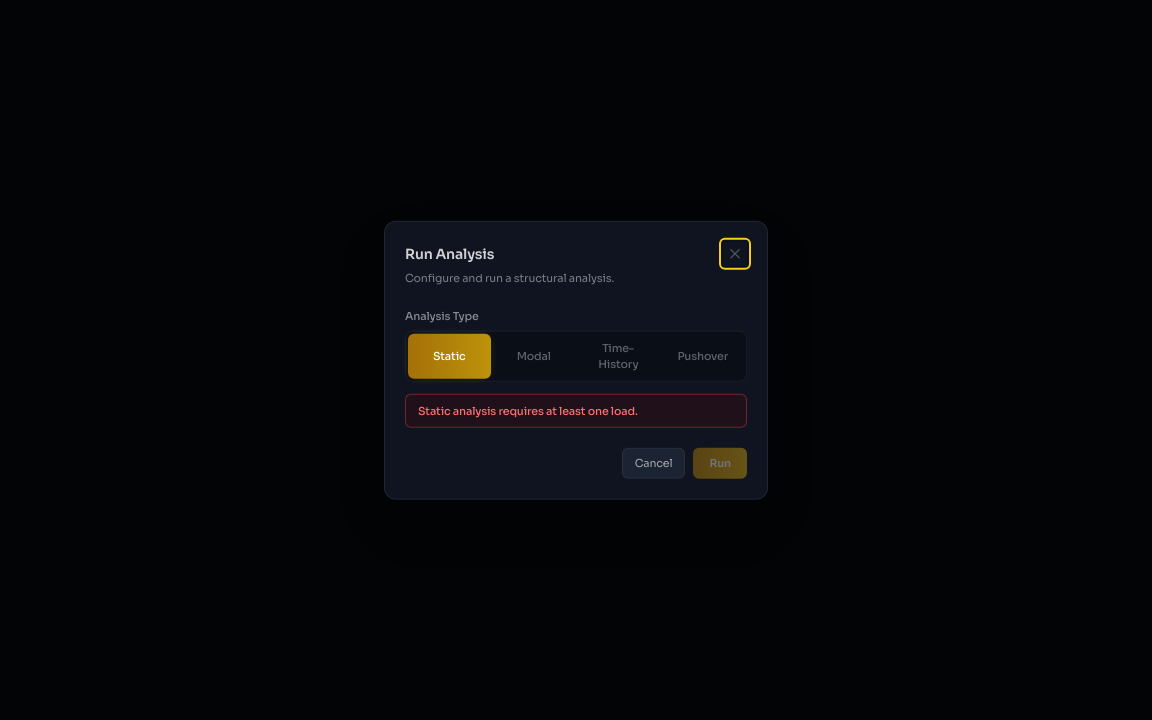
Scenario: AnalysisDialog — auto-select ground motion › still shows error when no ground motions exist
What coordinates should you click on to do the following:
click the button "Time-History"
I would click on:
 (618, 356)
Its box is [577,333,660,378].
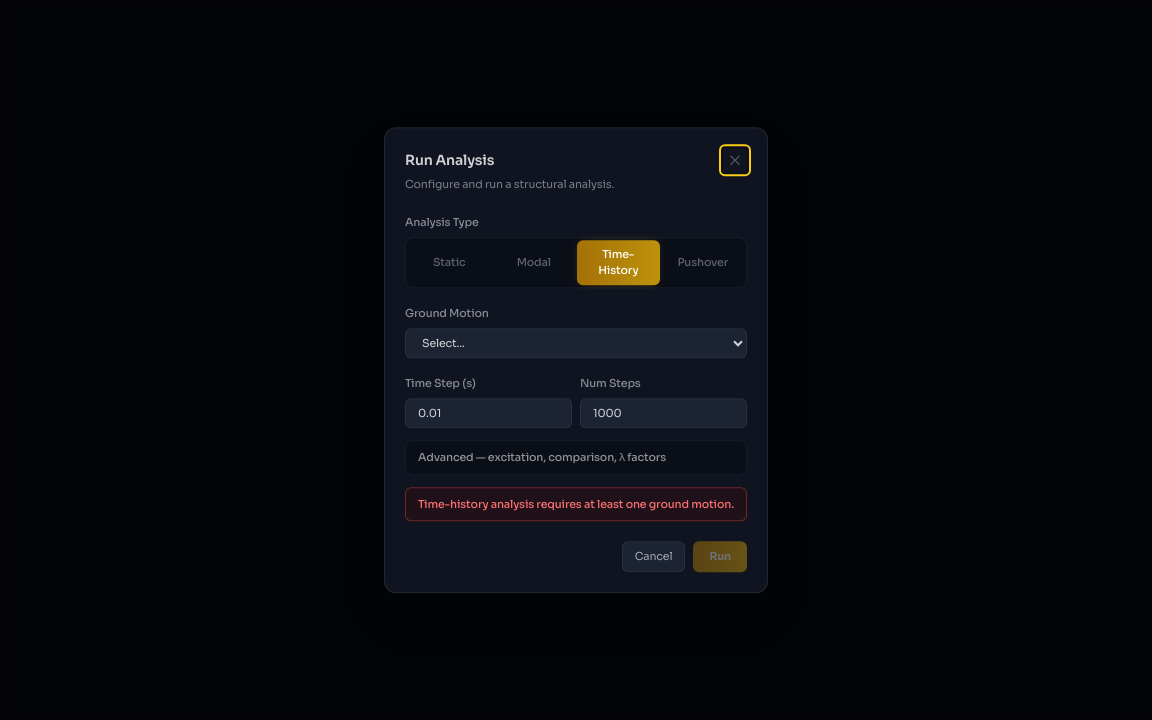
Result: the text "Time-history analysis requires at least one ground motion." is shown at [418,496,734,512]
